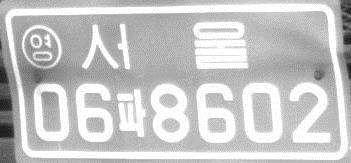0: (241, 80, 284, 144), (32, 81, 70, 142)
2: (288, 80, 333, 145)
6: (195, 80, 238, 144), (74, 82, 115, 143)
8: (149, 80, 192, 144)
서울_D: (80, 20, 252, 73)
영: (20, 23, 62, 72)
파: (114, 87, 148, 139)
